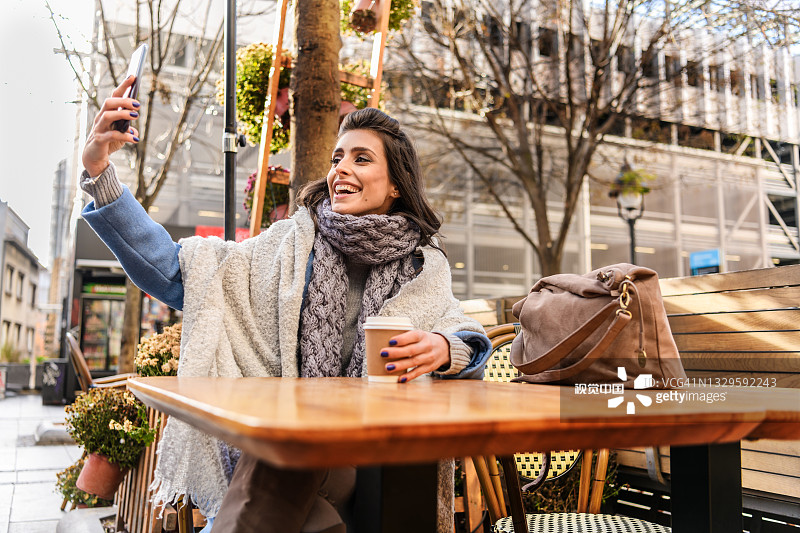no-phone: (365, 310, 460, 386)
taking photos: (70, 44, 166, 181)
